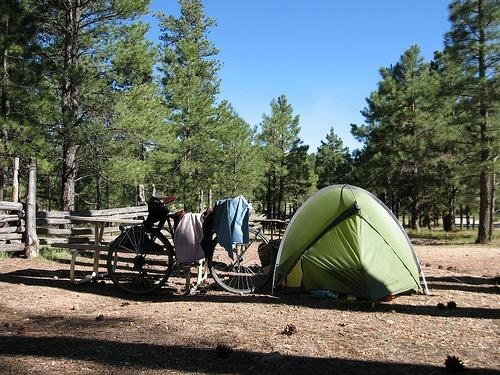bicycle: (108, 197, 275, 294)
